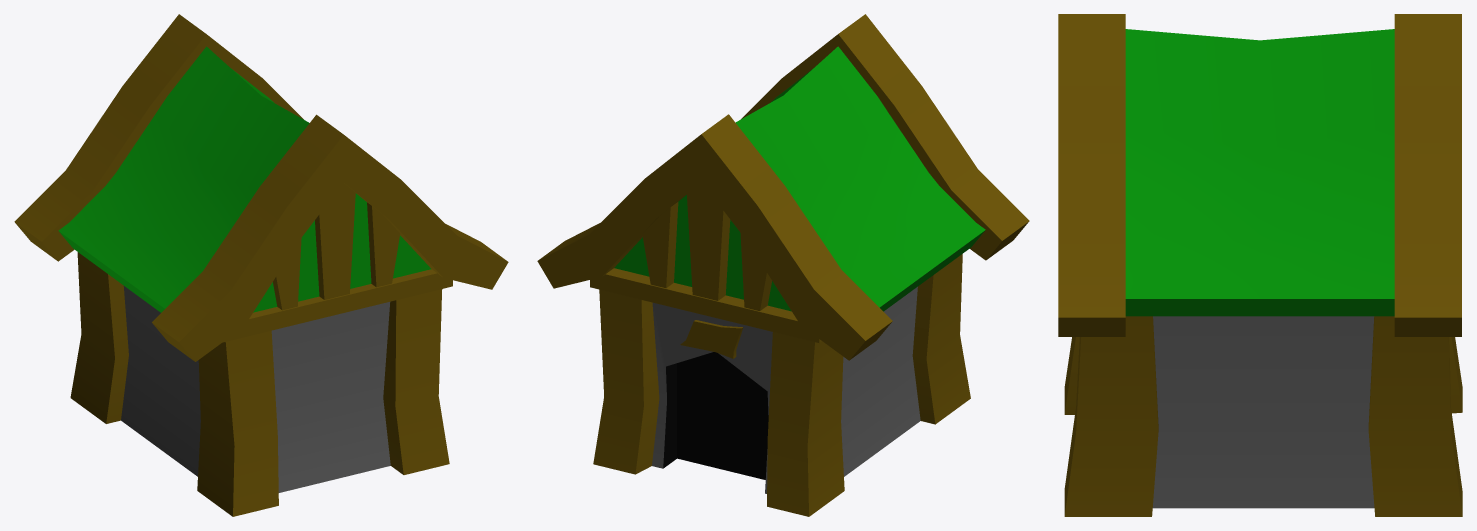
Rendered from House.fbx.
The picture shows the model from 3 angles, left to right: view 1: azimuth 30°, elevation 25°; view 2: azimuth 150°, elevation 25°; view 3: azimuth 270°, elevation 25°; orthographic projection. The views are drawn at different scales.
Visible parts, largest first — view 1: House; view 2: House; view 3: House.
Boxes of the visible parts, x1=… form: House: x1=14, y1=14, x2=508, y2=516; House: x1=537, y1=14, x2=1029, y2=516; House: x1=1058, y1=14, x2=1462, y2=516.
Size of the model in its own units: 380 by 394 by 330.
